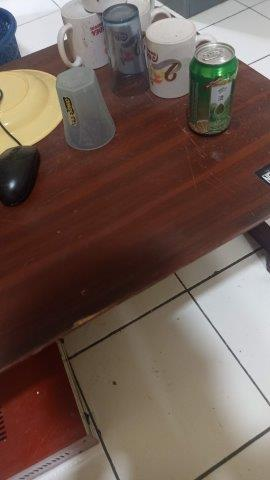kaleng: (189, 43, 238, 139)
